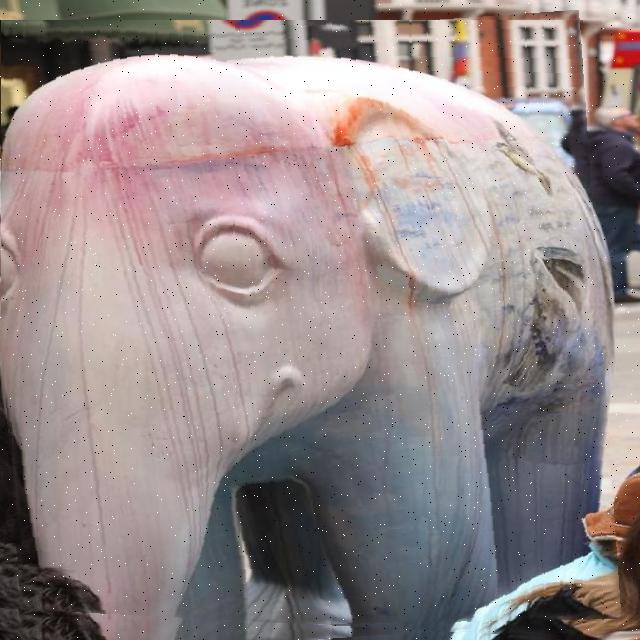elephant: (0, 20, 612, 640)
